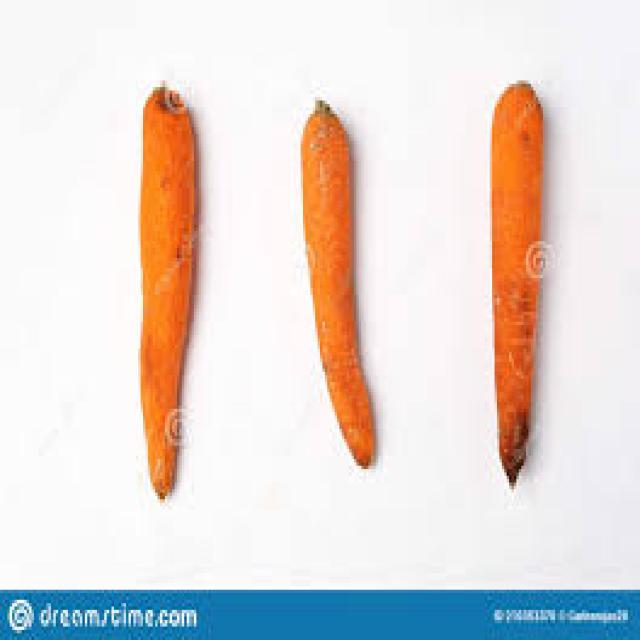Stale_Carrot: (298, 91, 383, 466), (139, 76, 201, 504), (489, 202, 539, 489)
